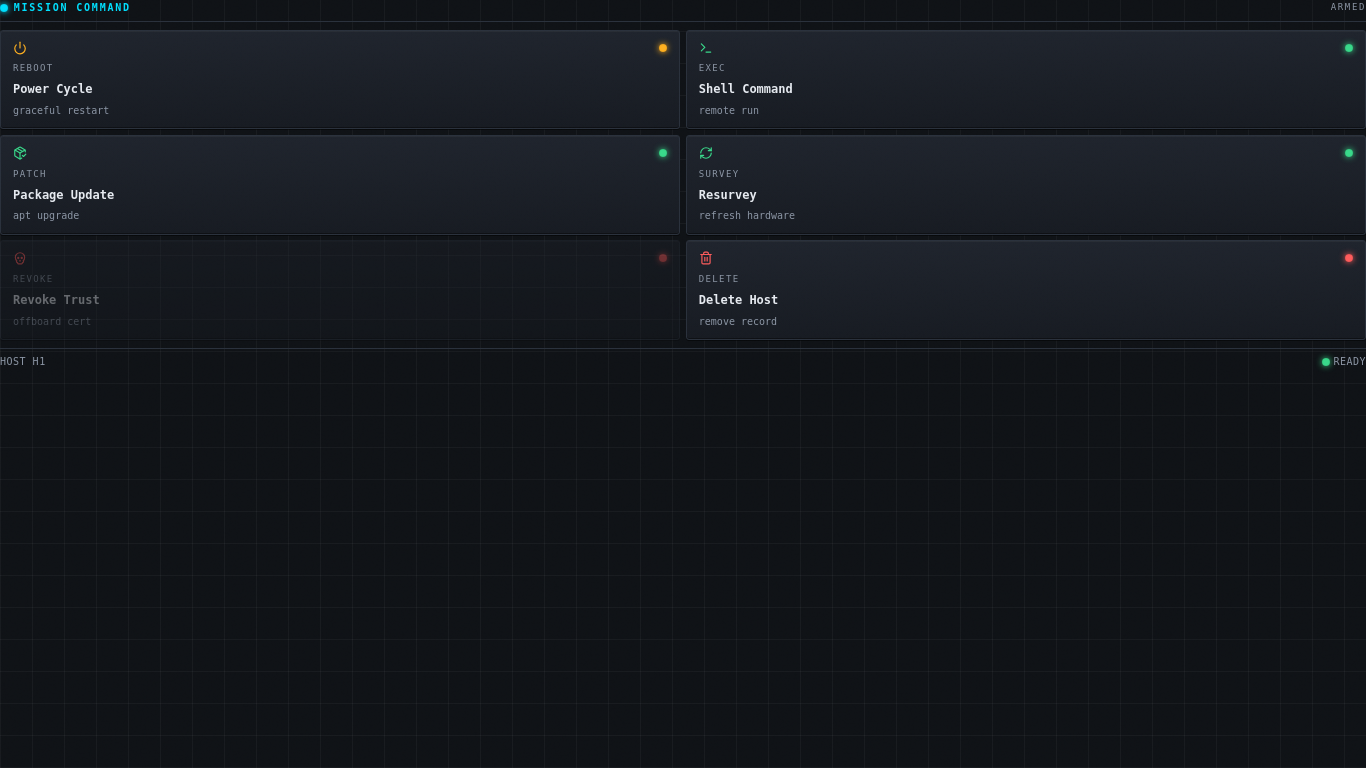
Test: QuickActions › clicking an allowed action opens confirm dialog
Click the button "REBOOT Power Cycle graceful restart": [33, 68] box x1=0 y1=30 x2=680 y2=129
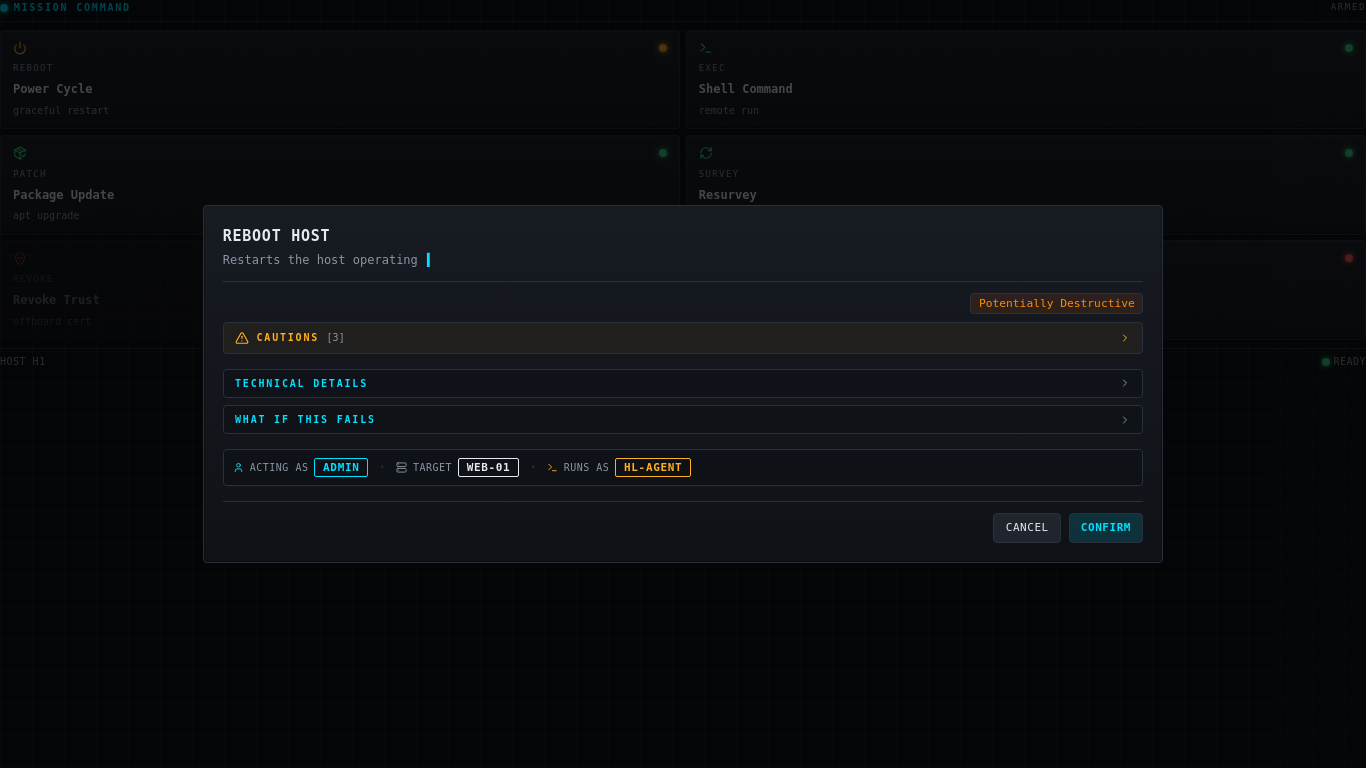
Expected: the dialog is shown
